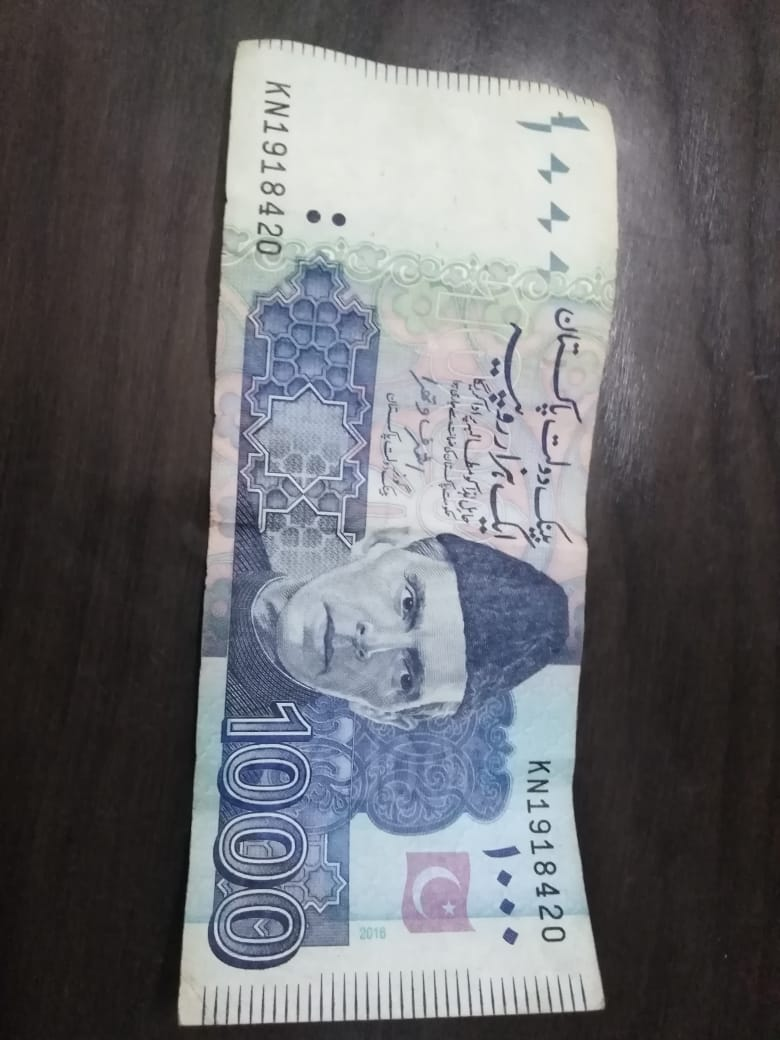1000 rupee: (120, 38, 644, 1025)
